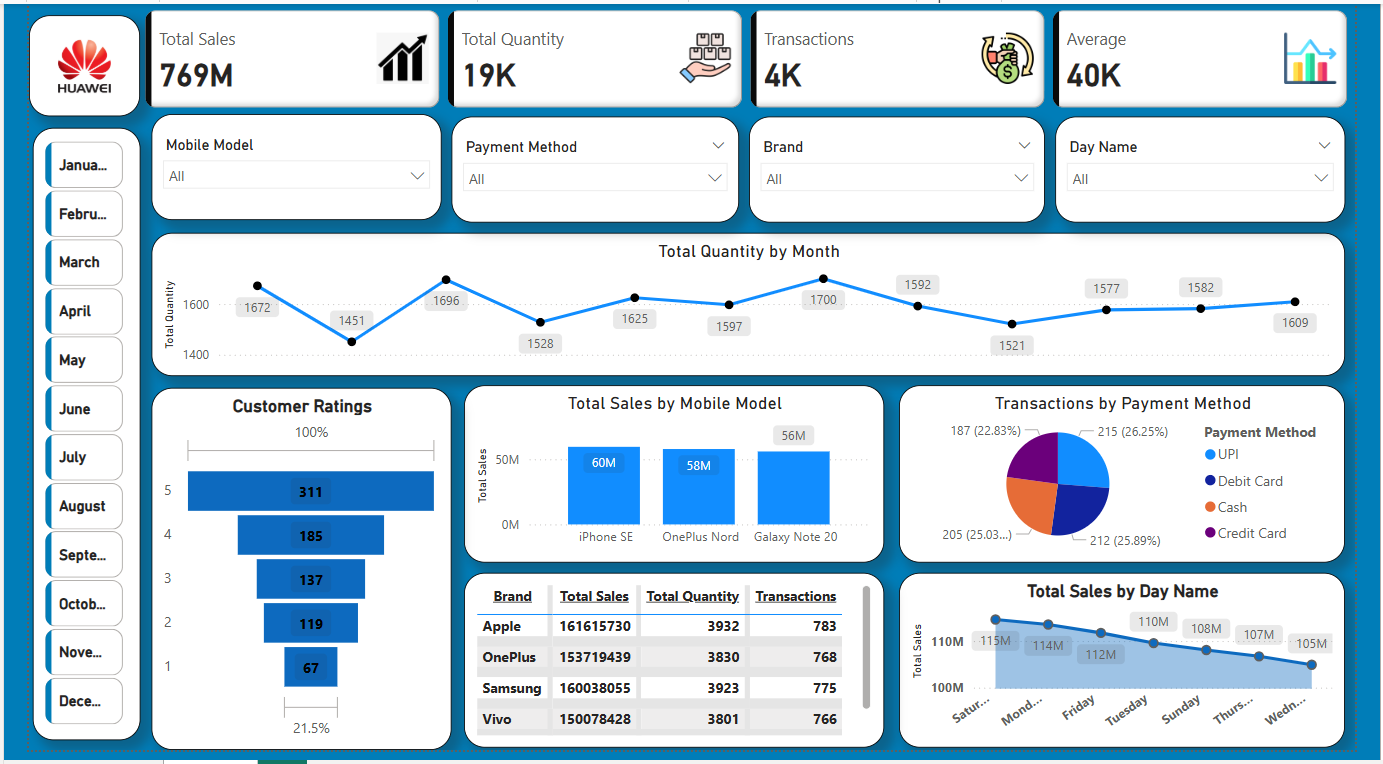

What the dashboard file says about the page in this screenshot:
{"tool":"powerbi","page":{"name":"Page 1","canvas":[1280,720],"ordinal":0},"visuals":[{"type":"shape","box":[0,10.9,107.4,97.7],"z":0},{"type":"shape","box":[3.6,119.4,103.8,591.2],"z":1000},{"type":"advancedSlicerVisual","fields":{"Values":["Sales_Data.Date.Variation.Date Hierarchy.Month"]},"box":[10.9,127.9,85.7,574.3],"z":2000},{"type":"cardVisual","fields":{"Data":["Sales_Data.Total Sales","Sales_Data.Total Quantity","Sales_Data.Transactions","Sales_Data.Average"]},"box":[107.4,1.2,1172.7,105],"z":3000},{"type":"lineChart","fields":{"Category":["Sales_Data.Date.Variation.Date Hierarchy.Month","Sales_Data.Date.Variation.Date Hierarchy.Day"],"Y":["Sales_Data.Total Quantity"]},"box":[118.2,220.8,1152.2,138.7],"z":4000},{"type":"clusteredColumnChart","fields":{"Category":["Sales_Data.Mobile Model"],"Y":["Sales_Data.Total Sales"]},"box":[419.8,368,405.4,171.3],"z":5000},{"type":"pieChart","fields":{"Category":["Sales_Data.Payment Method"],"Y":["Sales_Data.Transactions"]},"box":[839.7,368,430.7,171.3],"z":6000},{"type":"funnel","title":"Customer Ratings","fields":{"Category":["Sales_Data.Customer Ratings"],"Y":["CountNonNull(Sales_Data.Customer Ratings)"]},"box":[118.2,370.4,289.5,349.9],"z":7000},{"type":"areaChart","fields":{"Category":["Sales_Data.Day Name"],"Y":["Sales_Data.Total Sales"]},"box":[839.7,548.9,430.7,168.9],"z":8000},{"type":"tableEx","fields":{"Values":["Sales_Data.Brand","Sales_Data.Total Sales","Sales_Data.Total Quantity","Sales_Data.Transactions"]},"box":[419.8,548.9,405.4,168.9],"z":9000},{"type":"slicer","fields":{"Values":["Sales_Data.Mobile Model"]},"box":[118.2,106.2,279.9,102.5],"z":10000},{"type":"slicer","fields":{"Values":["Sales_Data.Payment Method"]},"box":[407.8,108.6,277.5,102.5],"z":11000},{"type":"slicer","fields":{"Values":["Sales_Data.Brand"]},"box":[694.9,108.6,285.9,102.5],"z":12000},{"type":"slicer","fields":{"Values":["Sales_Data.Day Name"]},"box":[990.5,108.6,279.9,102.5],"z":13000},{"type":"image","box":[0,7.2,107.4,105],"z":14000}]}

Visuals, with their boxes in screenshot pixels (x1, y1, x2, y2), scaled from the page's 1280x720 canvas onto the 1383x764 screenshot:
shape: 0, 12, 116, 115
shape: 4, 127, 116, 754
advancedSlicerVisual - Sales_Data.Date.Variation.Date Hierarchy.Month: 12, 136, 104, 745
cardVisual - Sales_Data.Total Sales x Sales_Data.Total Quantity: 116, 1, 1382, 113
lineChart - Sales_Data.Date.Variation.Date Hierarchy.Month x Sales_Data.Date.Variation.Date Hierarchy.Day: 128, 234, 1373, 381
clusteredColumnChart - Sales_Data.Mobile Model x Sales_Data.Total Sales: 454, 390, 892, 572
pieChart - Sales_Data.Payment Method x Sales_Data.Transactions: 907, 390, 1373, 572
"Customer Ratings" funnel: 128, 393, 441, 763
areaChart - Sales_Data.Day Name x Sales_Data.Total Sales: 907, 582, 1373, 762
tableEx - Sales_Data.Brand x Sales_Data.Total Sales: 454, 582, 892, 762
slicer - Sales_Data.Mobile Model: 128, 113, 430, 221
slicer - Sales_Data.Payment Method: 441, 115, 740, 224
slicer - Sales_Data.Brand: 751, 115, 1060, 224
slicer - Sales_Data.Day Name: 1070, 115, 1373, 224
image: 0, 8, 116, 119
